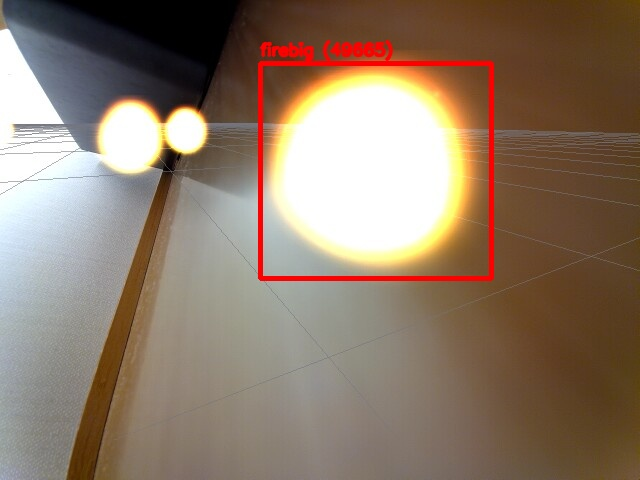firebig: (260, 63, 491, 278)
